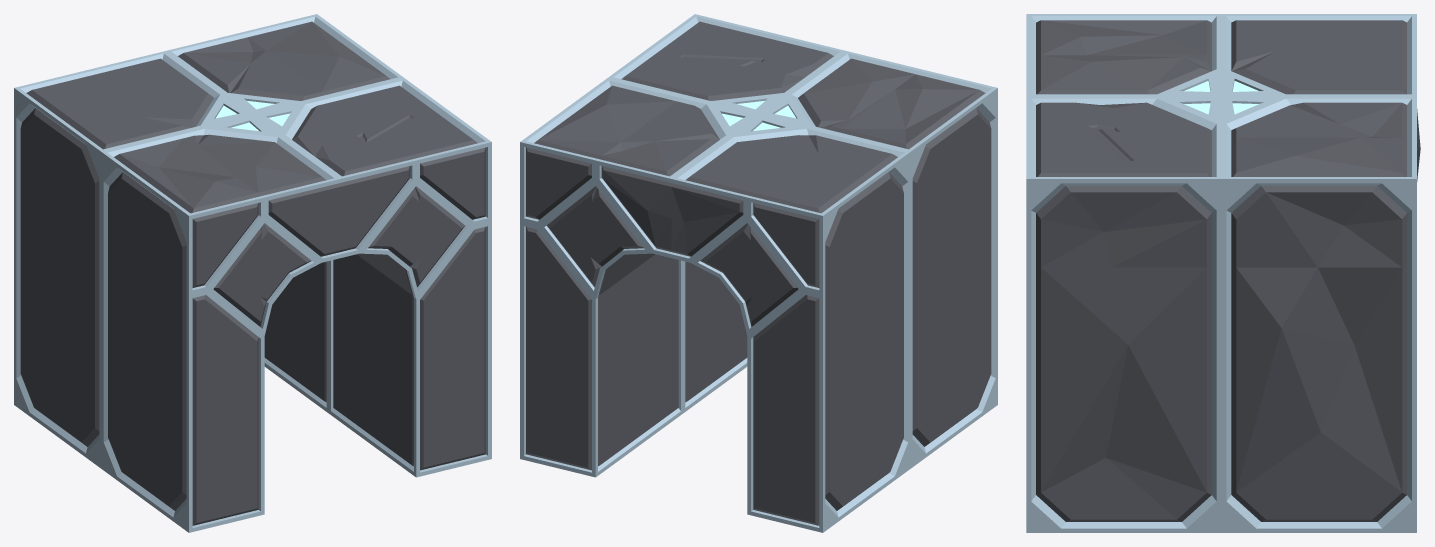
File: Arch.fbx
3 views of the same model, side by side, from view 1: azimuth 30°, elevation 25°; view 2: azimuth 150°, elevation 25°; view 3: azimuth 270°, elevation 25° (orthographic). The views are drawn at different scales.
Visible parts, largest first — view 1: Arch_Small; view 2: Arch_Small; view 3: Arch_Small.
Part boxes in pixels (bbox=[...]): Arch_Small: bbox=[14, 14, 491, 532]; Arch_Small: bbox=[520, 14, 997, 532]; Arch_Small: bbox=[1026, 14, 1420, 532].
Size of the model in its own units: 8.26 by 8.13 by 8.08.
